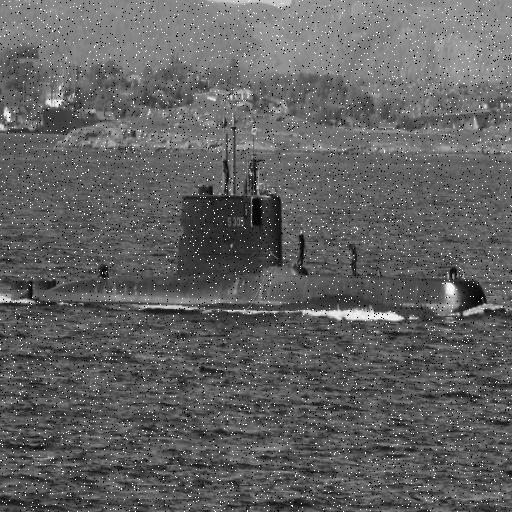submarine: (13, 114, 491, 303)
